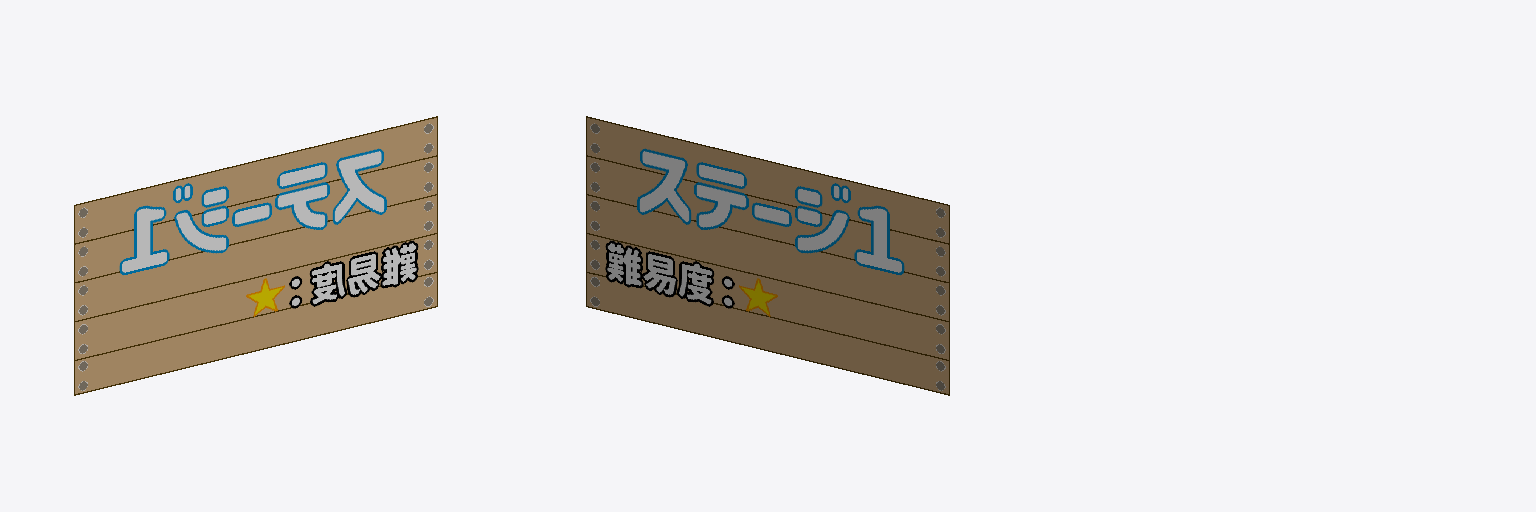
The picture shows the model from 3 angles: view 1: azimuth 30°, elevation 25°; view 2: azimuth 150°, elevation 25°; view 3: azimuth 270°, elevation 25°; orthographic projection.
Parts seen in each view (by area): view 1: 平面; view 2: 平面; view 3: none.
Part boxes in pixels (x1,y1,x2,y2): 平面: (74,116,437,395); 平面: (586,116,949,395).
Size of the model in its own units: 4 by 2 by 0.
Materials: 1 (1 with a texture image).